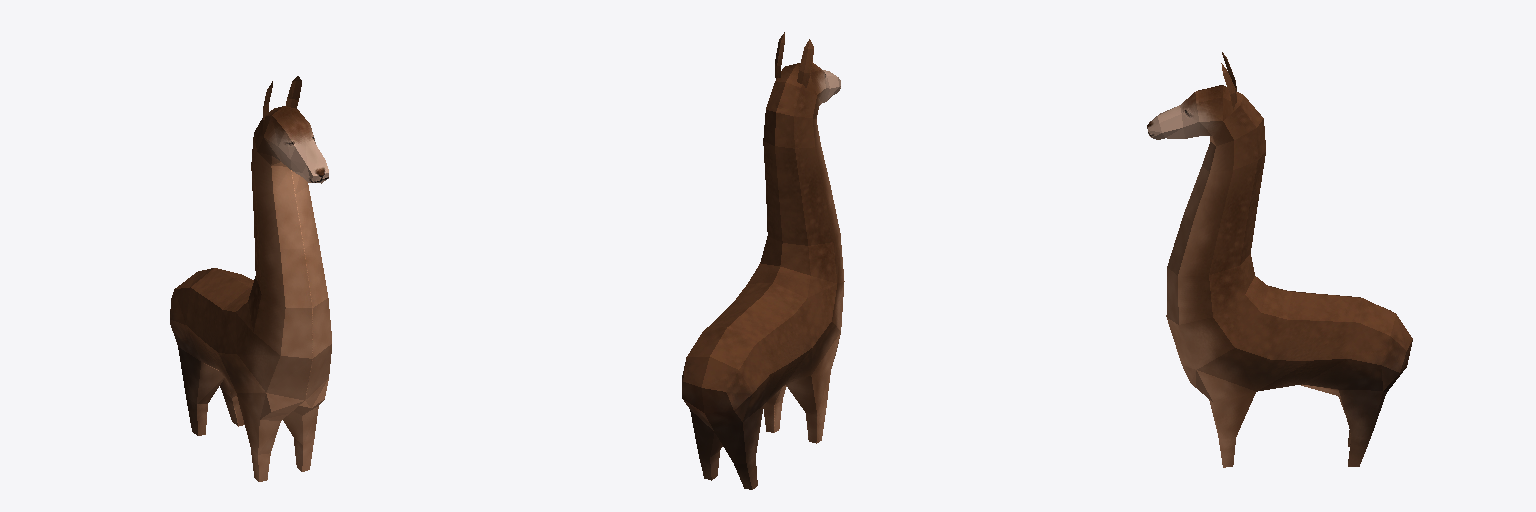
The picture shows the model from 3 angles: view 1: azimuth 30°, elevation 25°; view 2: azimuth 150°, elevation 25°; view 3: azimuth 270°, elevation 25°; orthographic projection.
Visible parts, largest first — view 1: Mesh_Group15920; view 2: Mesh_Group15920; view 3: Mesh_Group15920.
Boxes of the visible parts, box(x1,y1,x2,y2) form: Mesh_Group15920: box(170, 76, 331, 481); Mesh_Group15920: box(682, 32, 844, 489); Mesh_Group15920: box(1147, 52, 1412, 467).
Bounding box in the file's own units: 0.3952 × 1.82 × 1.1.
Materials: 1 (1 with a texture image).